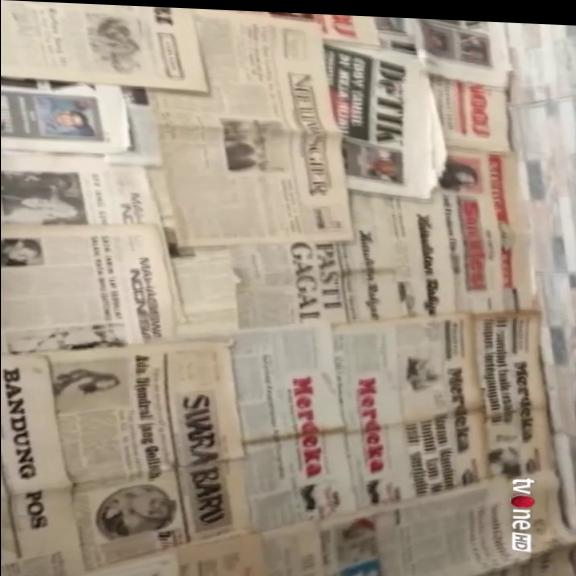Kertas: (148, 10, 352, 251), (43, 334, 240, 491), (0, 218, 181, 357), (3, 1, 210, 96), (328, 403, 486, 526), (330, 307, 476, 440), (329, 42, 442, 199), (370, 481, 554, 576), (471, 311, 556, 515), (221, 318, 341, 452), (340, 184, 454, 325), (446, 150, 536, 313), (1, 156, 161, 237), (1, 78, 128, 157), (427, 73, 511, 154), (407, 19, 508, 85), (239, 521, 333, 576), (524, 186, 575, 275), (539, 325, 575, 447)
